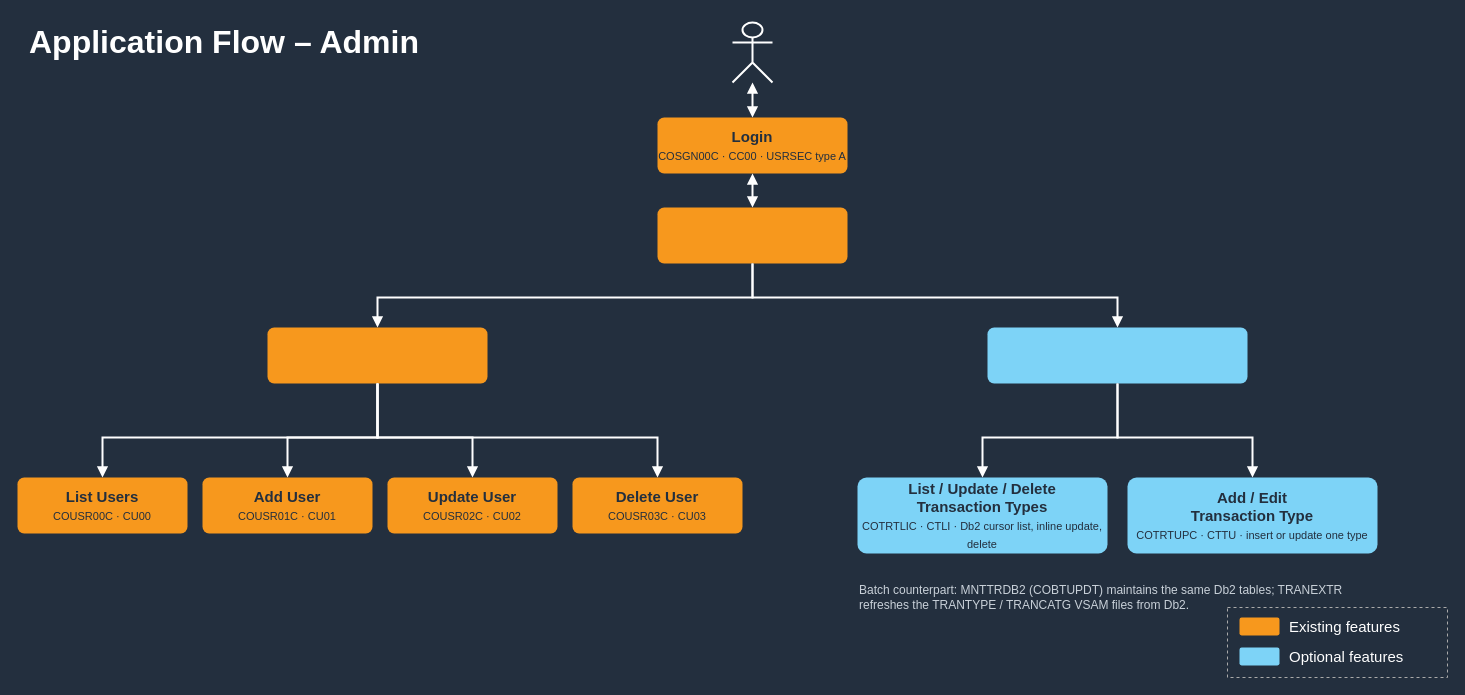
Some shapes in this 1465 by 695 pixel diagram are drawn without their labels. The shapes that lost their labels are listed below. From the top down, each one's centre as x and y in pixels, then its label:
At point 752,52: "Admin".
At point 752,235: "Admin Menu COADM01C · CA00 · options per COADM02Y".
At point 377,355: "User Management USRSEC VSAM file".
At point 1117,355: "Transaction Type Management Db2 module · app-transaction-type-db2".
